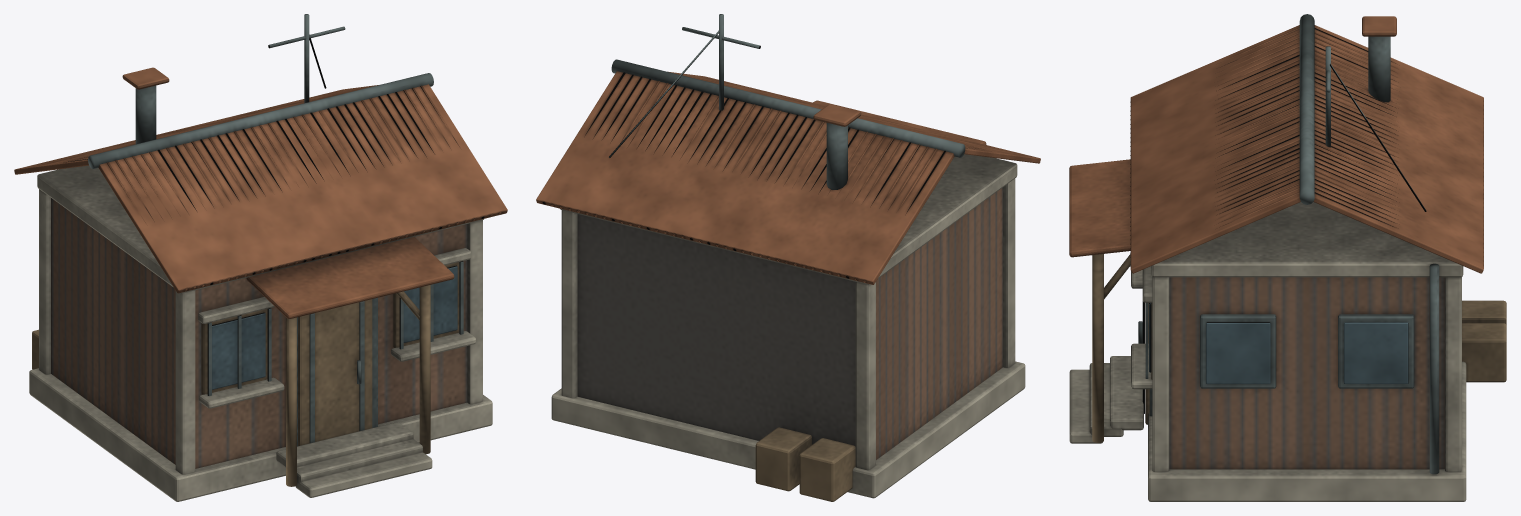
The model's file is Headquarters.fbx.
3 views of the same model, side by side, from view 1: azimuth 30°, elevation 25°; view 2: azimuth 150°, elevation 25°; view 3: azimuth 270°, elevation 25° (orthographic). The views are drawn at different scales.
Visible parts, largest first — view 1: Headquarters; view 2: Headquarters; view 3: Headquarters.
Part boxes in pixels (box(x1,y1,x2,y2)): Headquarters: box(14, 14, 507, 501); Headquarters: box(536, 14, 1040, 501); Headquarters: box(1069, 14, 1506, 501).
Bounding box in the file's own units: 3.96 × 4.18 × 4.12.
Materials: 1 (1 with a texture image).
